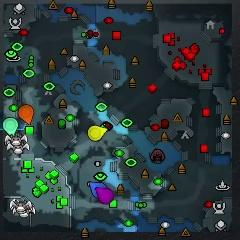p1: (89, 181, 106, 197)
p2: (4, 118, 17, 136)
p3: (96, 187, 113, 204)
p4: (88, 126, 106, 141)
p5: (19, 105, 34, 124)
